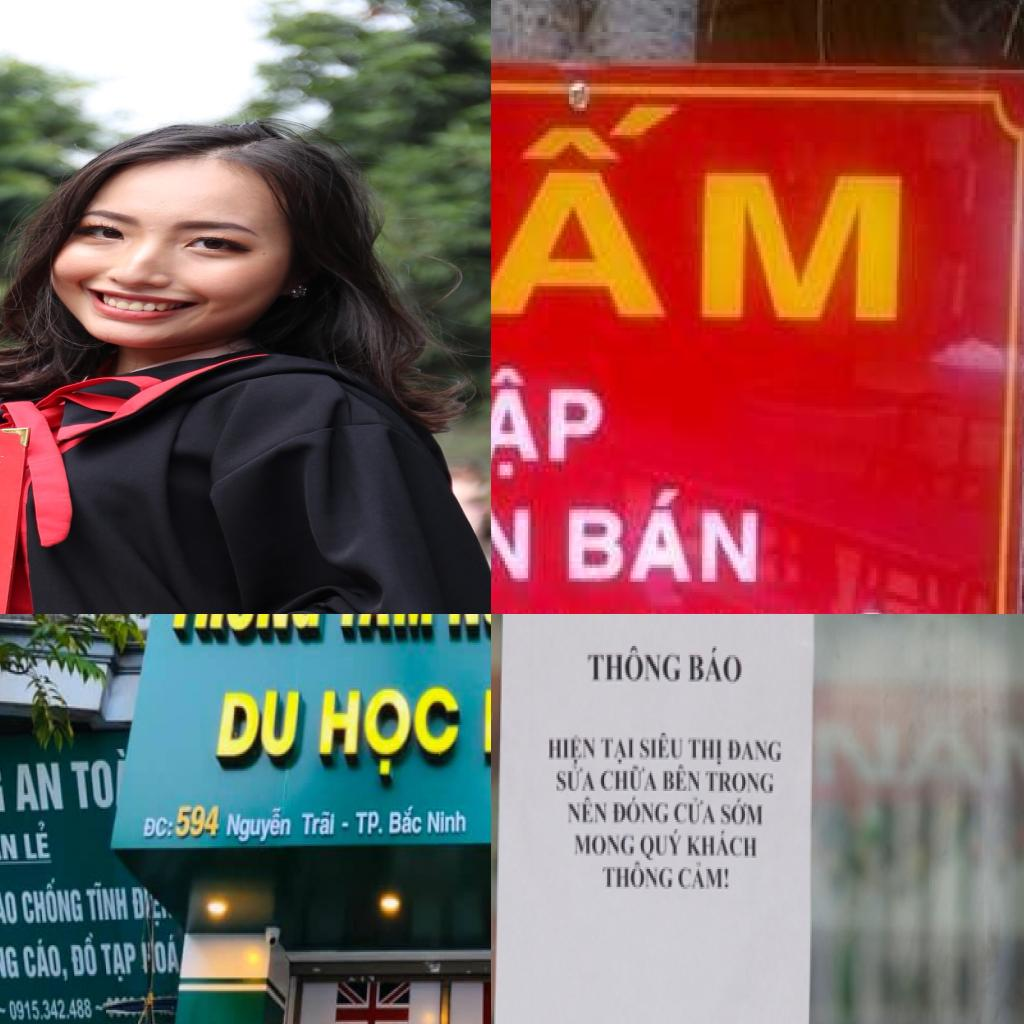text: (491, 94, 912, 338), (567, 485, 766, 599), (814, 713, 1024, 798), (307, 682, 463, 785), (491, 358, 612, 482), (210, 686, 307, 769), (163, 614, 328, 648), (586, 644, 683, 686), (328, 614, 441, 645), (20, 877, 86, 928), (13, 758, 65, 817), (68, 754, 116, 815), (222, 807, 296, 846), (8, 994, 94, 1024), (20, 935, 72, 984), (687, 646, 745, 688), (600, 860, 675, 891), (686, 829, 760, 860), (84, 877, 129, 925), (704, 768, 776, 798), (598, 764, 660, 796), (676, 860, 732, 894), (174, 800, 220, 841), (610, 796, 671, 826), (100, 936, 138, 984), (640, 826, 686, 864), (548, 733, 600, 766), (574, 833, 637, 860), (727, 738, 784, 766), (674, 795, 720, 829), (720, 795, 766, 829), (68, 932, 100, 980), (425, 807, 472, 839), (638, 731, 686, 762), (299, 807, 339, 844), (23, 817, 52, 867), (388, 804, 427, 840), (660, 762, 702, 795), (555, 764, 598, 796), (156, 931, 184, 976), (687, 735, 724, 769), (567, 796, 608, 826), (350, 809, 386, 841), (141, 812, 175, 844), (601, 736, 637, 766), (0, 930, 20, 981), (0, 880, 20, 926), (0, 827, 20, 868), (132, 884, 152, 921), (0, 755, 7, 815)
